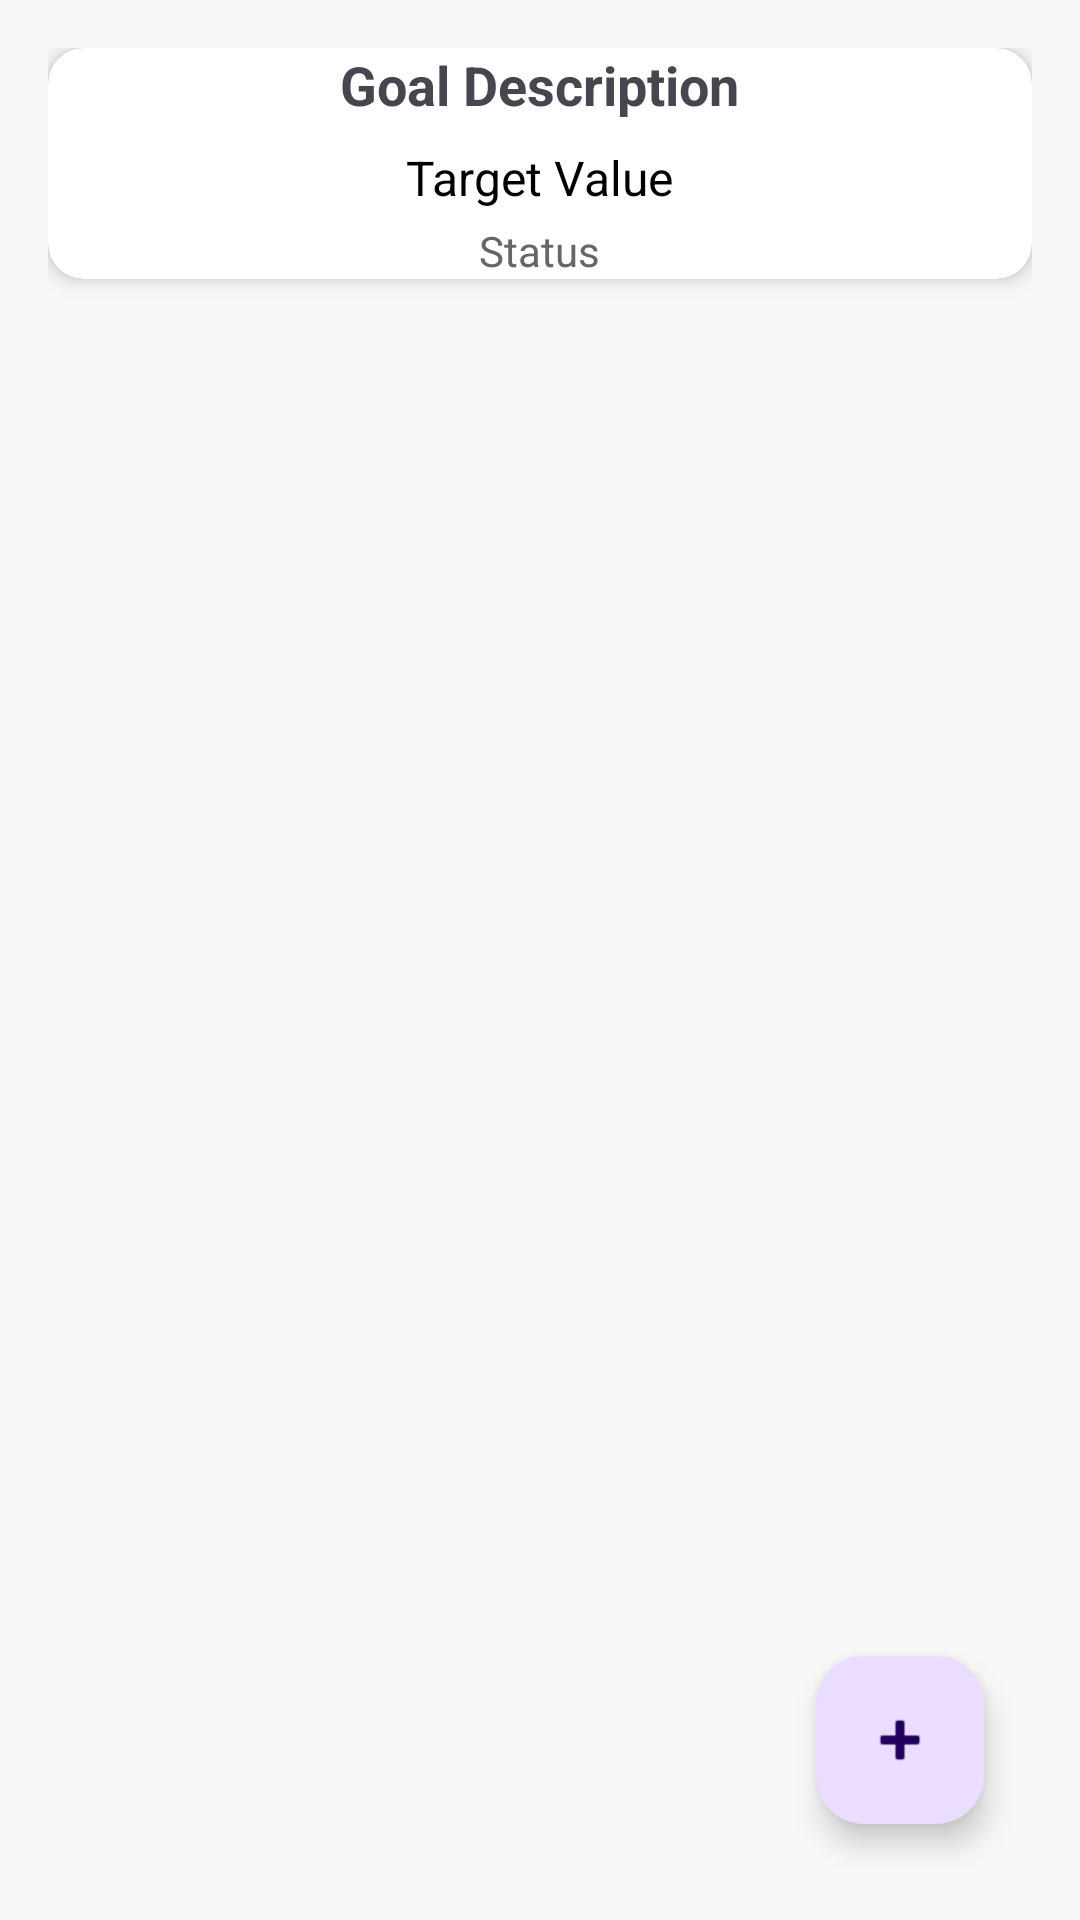

Icon click points for this 1080w x 1920h phone screenshot, format (x=x, y=y):
Add Progress: (x=900, y=1740)
